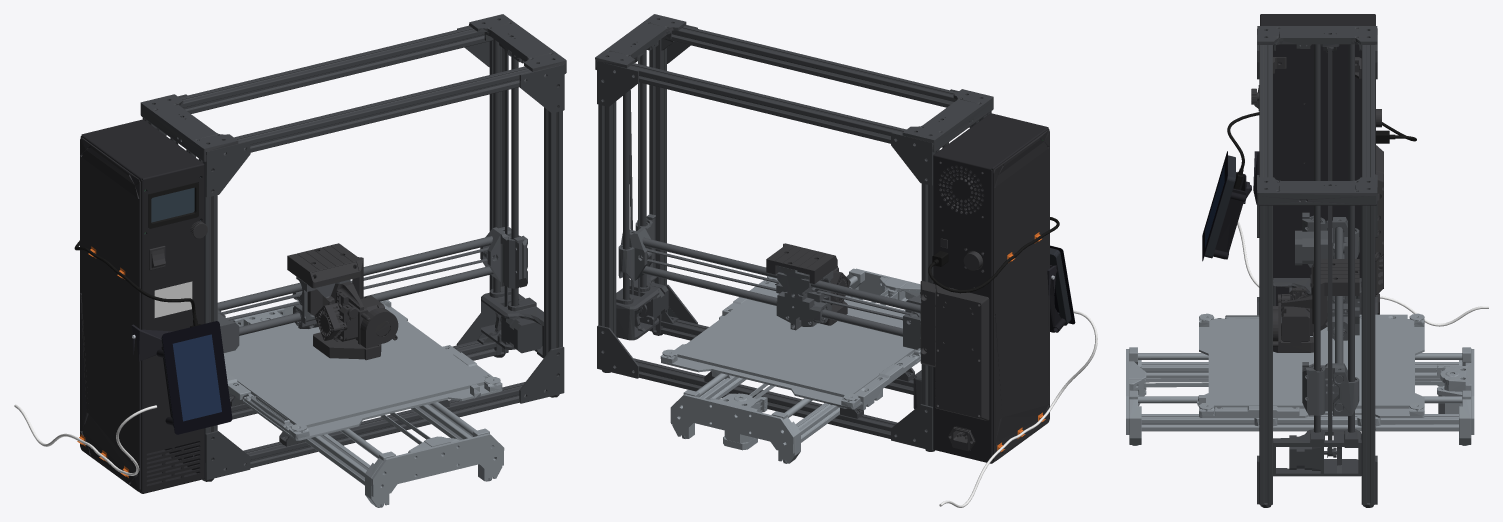
The model's file is taz.glb.
3 renders of one model, left to right at view 1: azimuth 30°, elevation 25°; view 2: azimuth 150°, elevation 25°; view 3: azimuth 270°, elevation 25°, orthographic. The views are drawn at different scales.
Parts seen in each view (by area): view 1: part12, part14, part15, part8, part13, part7, part2, part1, part11, part16, part18, part10 (+2 smaller); view 2: part12, part14, part15, part8, part7, part13, part18, part5, part3; view 3: part12, part14, part8, part7, part13, part0, part3, part5, part18, part1.
Part boxes in pixels (left/top/right/bottom): part12: left=140, top=14, right=566, bottom=481; part14: left=223, top=299, right=504, bottom=507; part15: left=80, top=137, right=140, bottom=491; part8: left=80, top=119, right=204, bottom=493; part13: left=217, top=226, right=527, bottom=352; part7: left=88, top=148, right=398, bottom=360; part2: left=172, top=334, right=221, bottom=421; part1: left=162, top=321, right=232, bottom=434; part11: left=144, top=176, right=201, bottom=234; part16: left=154, top=281, right=192, bottom=317; part18: left=14, top=404, right=156, bottom=475; part10: left=145, top=176, right=201, bottom=234; part12: left=595, top=14, right=993, bottom=451; part14: left=660, top=268, right=920, bottom=463; part15: left=993, top=130, right=1049, bottom=461; part8: left=933, top=113, right=1049, bottom=463; part7: left=766, top=161, right=989, bottom=451; part13: left=618, top=214, right=921, bottom=349; part18: left=939, top=310, right=1097, bottom=507; part5: left=928, top=217, right=1059, bottom=293; part3: left=1050, top=248, right=1071, bottom=325; part12: left=1257, top=26, right=1377, bottom=507; part14: left=1126, top=313, right=1474, bottom=445; part8: left=1260, top=14, right=1375, bottom=305; part7: left=1251, top=57, right=1383, bottom=352; part13: left=1295, top=212, right=1359, bottom=415; part0: left=1213, top=172, right=1246, bottom=259; part3: left=1204, top=155, right=1235, bottom=258; part5: left=1227, top=112, right=1416, bottom=189; part18: left=1237, top=221, right=1488, bottom=326; part1: left=1202, top=151, right=1227, bottom=261.
Size of the model in its own units: 735 by 533 by 531.
